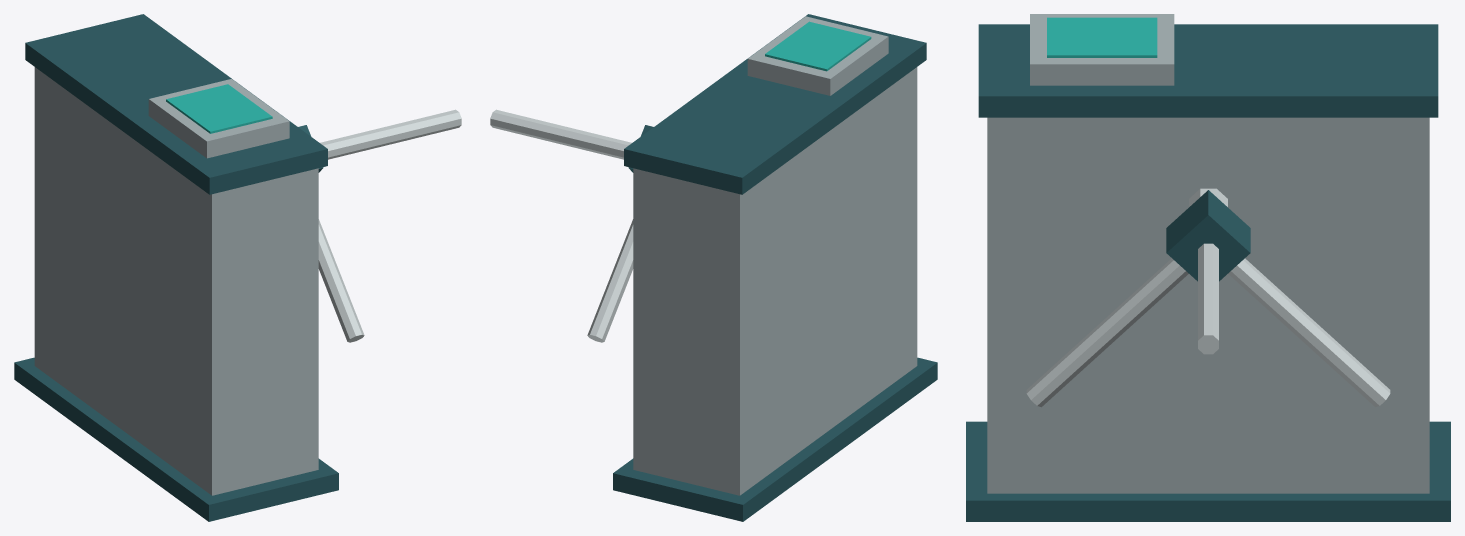
The picture shows the model from 3 angles, left to right: view 1: azimuth 30°, elevation 25°; view 2: azimuth 150°, elevation 25°; view 3: azimuth 270°, elevation 25°; orthographic projection. The views are drawn at different scales.
Visible parts, largest first — view 1: CompleteWaistHeightCabinet, WholeDarkTopCap, WholeGroundPlinth, FareReaderRaisedHousing, FareReaderActualScanFace, LaneHorizontalArm, BackwardDownArm; view 2: CompleteWaistHeightCabinet, WholeDarkTopCap, WholeGroundPlinth, FareReaderRaisedHousing, FareReaderActualScanFace, LaneHorizontalArm, ForwardDownArm; view 3: CompleteWaistHeightCabinet, WholeDarkTopCap, WholeGroundPlinth, FareReaderRaisedHousing, BackwardDownArm, ForwardDownArm, FareReaderActualScanFace, TripodFacetedHub, LaneHorizontalArm.
Boxes of the visible parts, bbox=[...] form: CompleteWaistHeightCabinet: bbox=[34, 67, 318, 495]; WholeDarkTopCap: bbox=[25, 14, 327, 194]; WholeGroundPlinth: bbox=[14, 357, 338, 521]; FareReaderRaisedHousing: bbox=[148, 79, 289, 158]; FareReaderActualScanFace: bbox=[166, 84, 272, 133]; LaneHorizontalArm: bbox=[320, 109, 461, 159]; BackwardDownArm: bbox=[318, 219, 364, 342]; CompleteWaistHeightCabinet: bbox=[633, 67, 917, 495]; WholeDarkTopCap: bbox=[624, 14, 926, 194]; WholeGroundPlinth: bbox=[613, 357, 937, 521]; FareReaderRaisedHousing: bbox=[747, 16, 888, 95]; FareReaderActualScanFace: bbox=[765, 21, 871, 71]; LaneHorizontalArm: bbox=[490, 109, 631, 159]; ForwardDownArm: bbox=[587, 219, 633, 342]; CompleteWaistHeightCabinet: bbox=[987, 117, 1429, 493]; WholeDarkTopCap: bbox=[978, 24, 1438, 117]; WholeGroundPlinth: bbox=[966, 421, 1450, 521]; FareReaderRaisedHousing: bbox=[1030, 14, 1174, 85]; BackwardDownArm: bbox=[1026, 258, 1188, 407]; ForwardDownArm: bbox=[1228, 258, 1390, 407]; FareReaderActualScanFace: bbox=[1047, 17, 1157, 57]; TripodFacetedHub: bbox=[1166, 190, 1250, 281]; LaneHorizontalArm: bbox=[1198, 243, 1218, 354].
Bounding box in the file's own units: 1.17 × 1.16 × 1.14.
